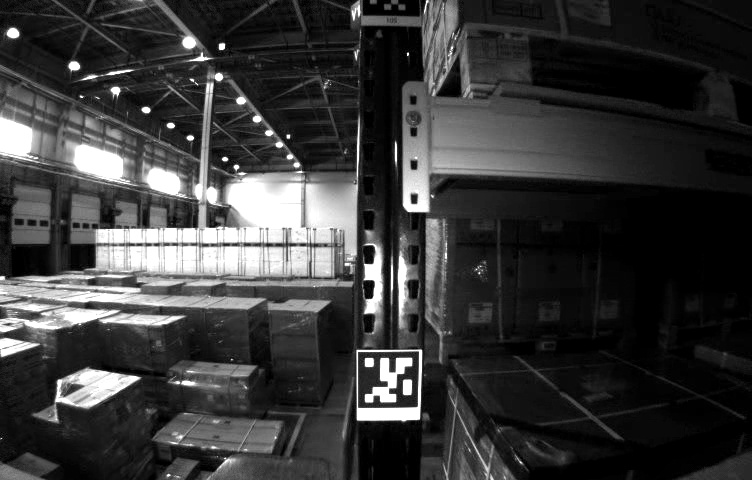True Barcode: (569, 1, 610, 25)
